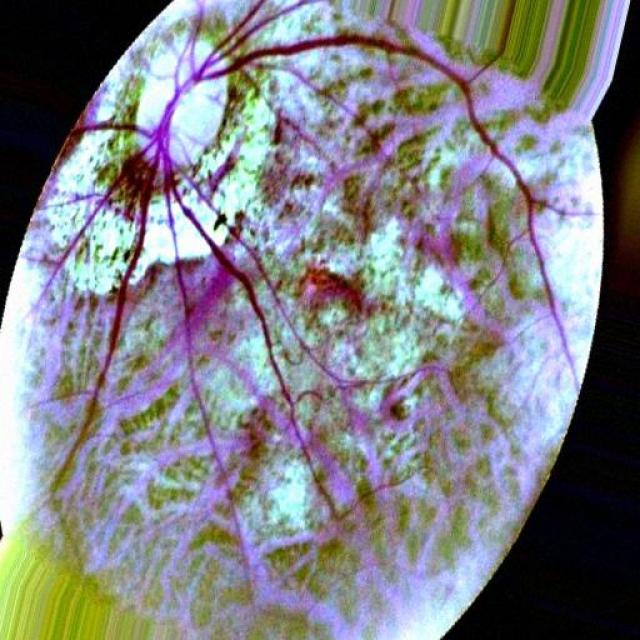Nerves: (56, 0, 409, 479), (429, 58, 556, 314)
Optic Disk: (136, 31, 226, 171)
